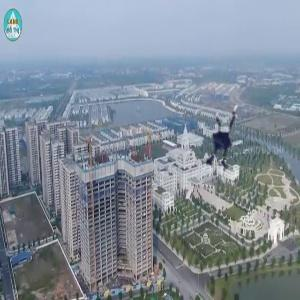drone: (190, 106, 271, 187)
